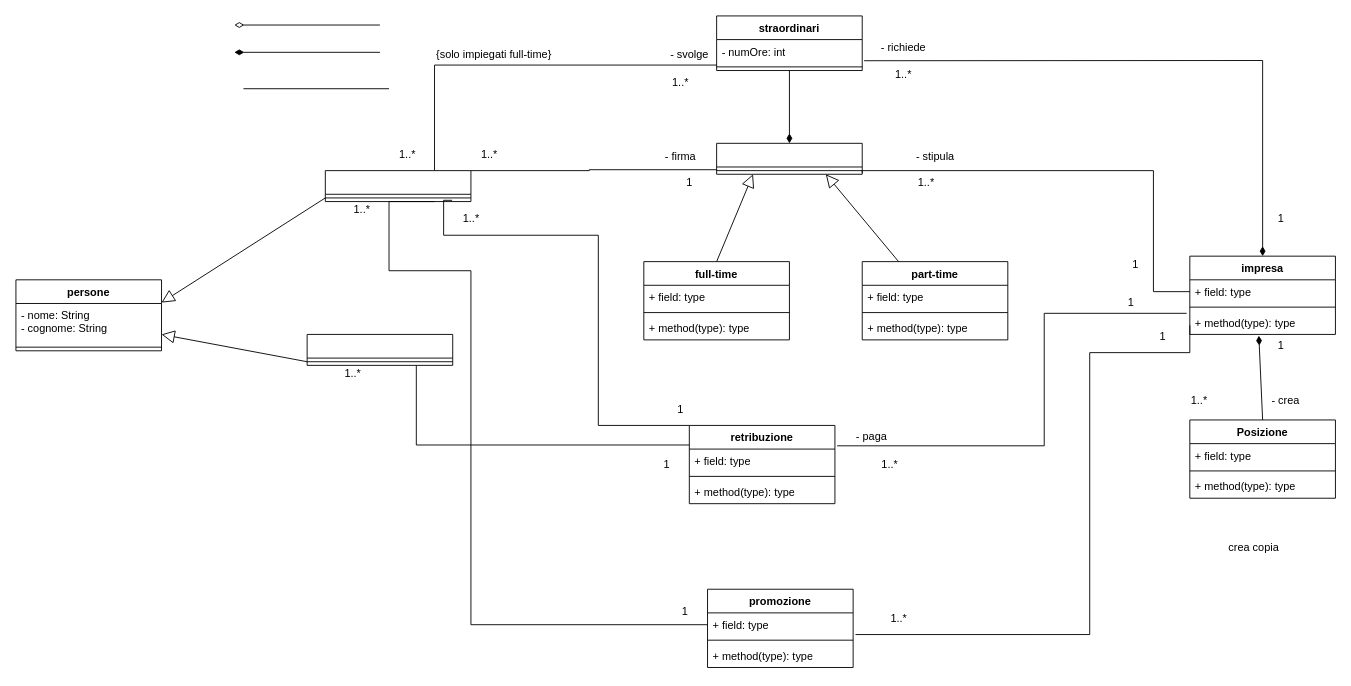
Some shapes in this 1351 by 686 pixel diagram are drawn without their labels. The shapes that lost their labels are listed below. From the top down, each one's centre as x and y in pixels, then its label:
At point 789,158: "contratto".
At point 397,186: "impiegato".
At point 379,349: "dirigente".
